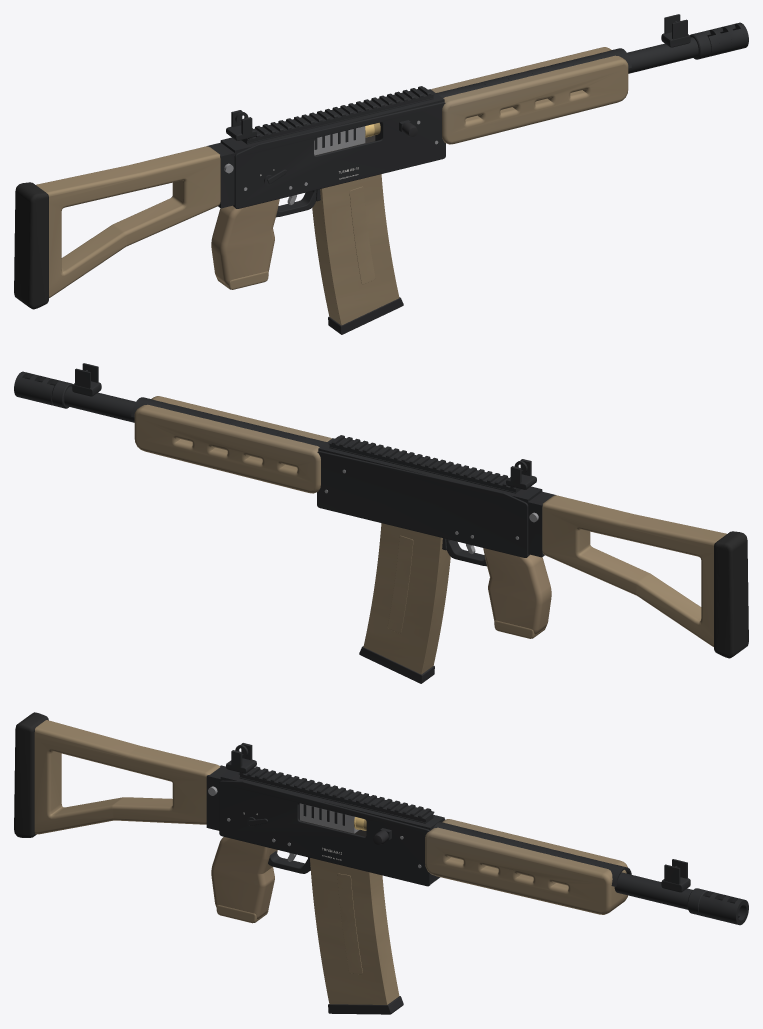
The model's file is tufan.glb.
3 views of the same model, one above another, from view 1: azimuth 30°, elevation 25°; view 2: azimuth 150°, elevation 25°; view 3: azimuth 330°, elevation 25° (orthographic).
Parts seen in each view (by area): view 1: govde, dipcik, el_kundagi, sarjor, kabza, namlu; view 2: govde, dipcik, el_kundagi, sarjor, kabza, namlu; view 3: govde, dipcik, el_kundagi, sarjor, kabza, namlu.
Part boxes in pixels (x1,y1,x2,y2): govde: (220,86,445,217); dipcik: (14,142,234,309); el_kundagi: (431,47,631,144); sarjor: (312,174,403,334); kabza: (211,199,279,289); namlu: (627,14,748,73); govde: (317,435,542,566); dipcik: (528,491,748,658); el_kundagi: (131,396,331,493); sarjor: (359,523,450,683); kabza: (483,548,551,638); namlu: (14,363,135,422); govde: (219,743,445,886); dipcik: (14,712,229,837); el_kundagi: (425,819,631,914); sarjor: (310,858,403,1014); kabza: (211,837,277,923); namlu: (614,859,748,925).
Bounding box in the file's own units: 0.9289 × 0.2965 × 0.064.
